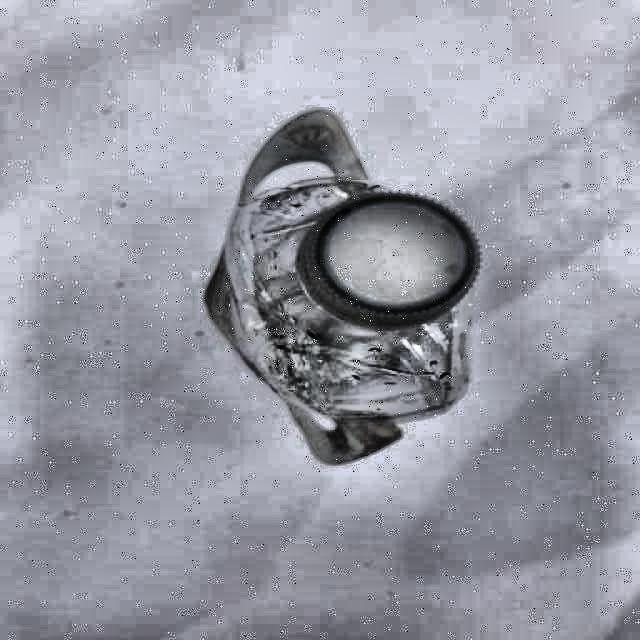plastic: (206, 110, 479, 464)
